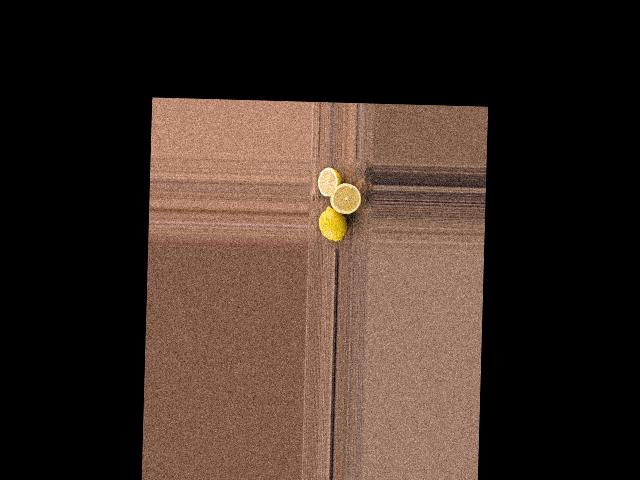lemon: (314, 205, 348, 240)
